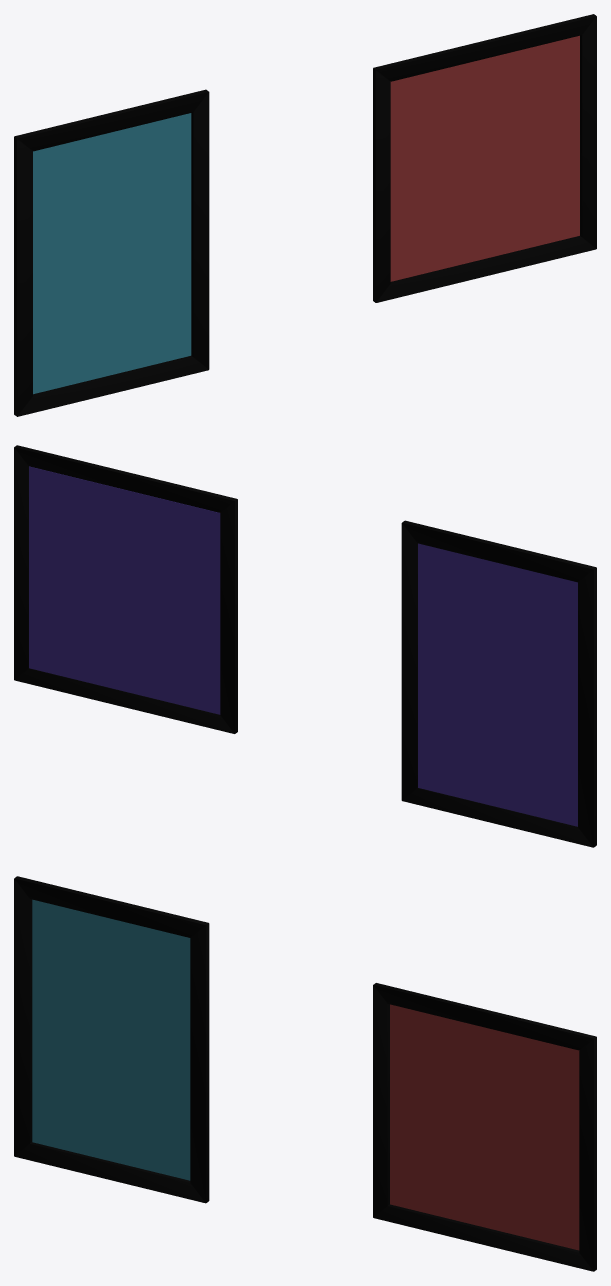
The model's file is Collection of paintings by Zabel's and Bond Girl Giclee.FBX.
The picture shows the model from 3 angles, top to bottom: view 1: azimuth 30°, elevation 25°; view 2: azimuth 150°, elevation 25°; view 3: azimuth 330°, elevation 25°; orthographic projection.
Parts seen in each view (by area): view 1: Bond Girl Giclee, Zabel's Music in Red; view 2: Bond Girl Giclee, Zabel's Music in Red; view 3: Bond Girl Giclee, Zabel's Music in Red.
Part boxes in pixels (box(x1,y1,x2,y2)): Bond Girl Giclee: box(14, 89, 209, 416); Zabel's Music in Red: box(373, 14, 596, 302); Bond Girl Giclee: box(401, 520, 596, 847); Zabel's Music in Red: box(14, 445, 237, 733); Bond Girl Giclee: box(14, 876, 209, 1203); Zabel's Music in Red: box(373, 983, 596, 1271).
Size of the model in its own units: 1186 by 544 by 10.99.
